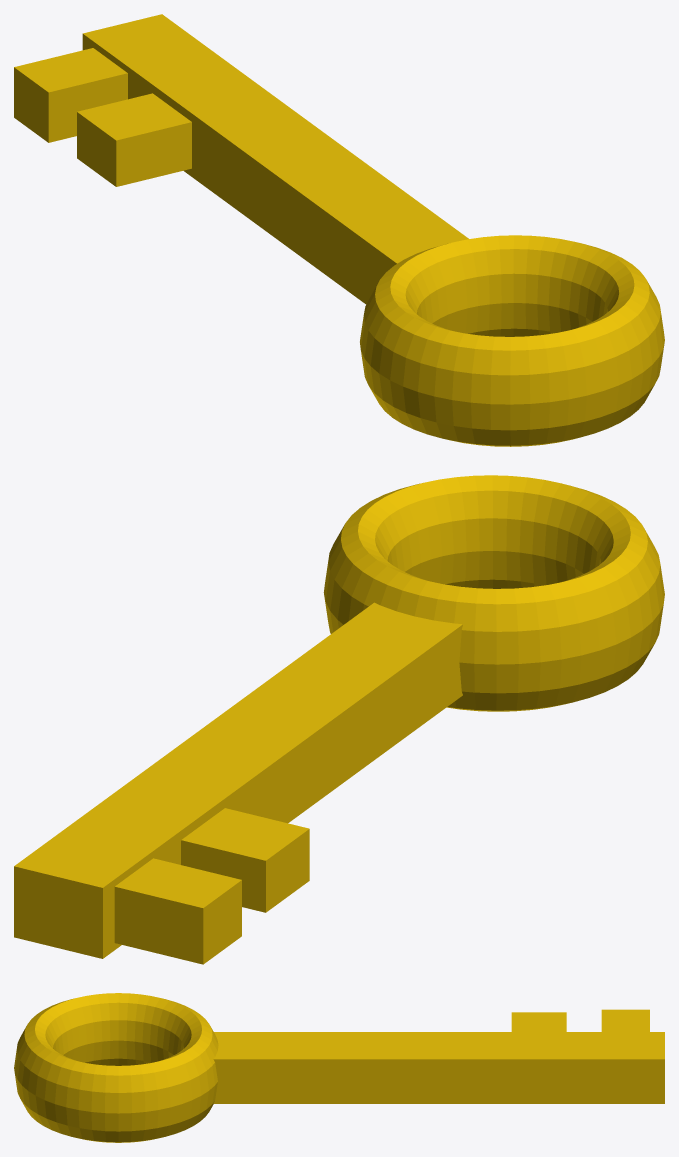
File: key.fbx
3 renders of one model, top to bottom at view 1: azimuth 30°, elevation 25°; view 2: azimuth 150°, elevation 25°; view 3: azimuth 270°, elevation 25°, orthographic. The views are drawn at different scales.
Parts seen in each view (by area): view 1: Torus; view 2: Torus; view 3: Torus.
Boxes of the visible parts, x1,y1,x2,y2 form: Torus: (14, 14, 664, 446); Torus: (14, 475, 664, 964); Torus: (14, 993, 664, 1142).
Bounding box in the file's own units: 13.49 × 5.32 × 40.77.
